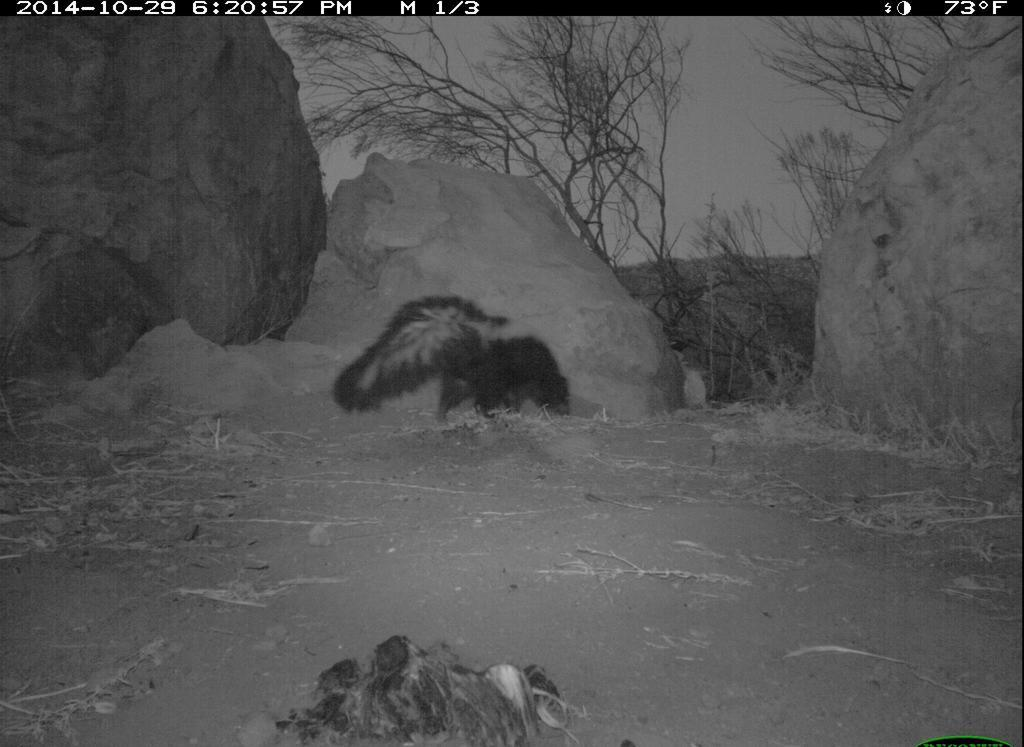skunk: (324, 289, 589, 440)
